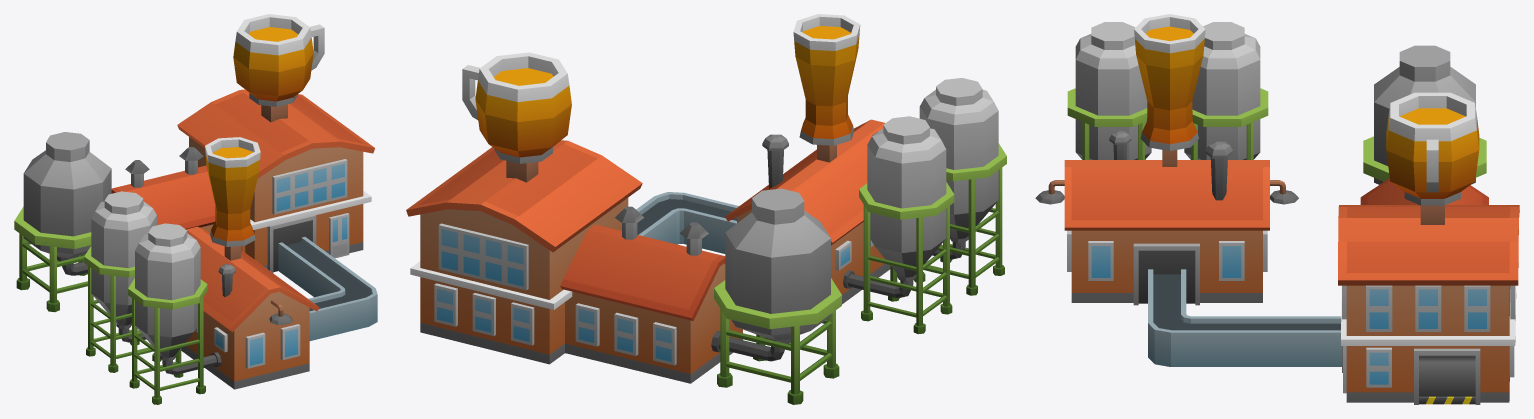
File: brewery house.fbx
The picture shows the model from 3 angles, left to right: view 1: azimuth 30°, elevation 25°; view 2: azimuth 150°, elevation 25°; view 3: azimuth 270°, elevation 25°; orthographic projection. The views are drawn at different scales.
Visible parts, largest first — view 1: brewery_house; view 2: brewery_house; view 3: brewery_house.
Part boxes in pixels (<box>): brewery_house: <box>14,14,377,404</box>; brewery_house: <box>406,14,1006,404</box>; brewery_house: <box>1035,14,1519,404</box>.
Size of the model in its own units: 1764 by 1066 by 1807.
1 material, 1 textured.
